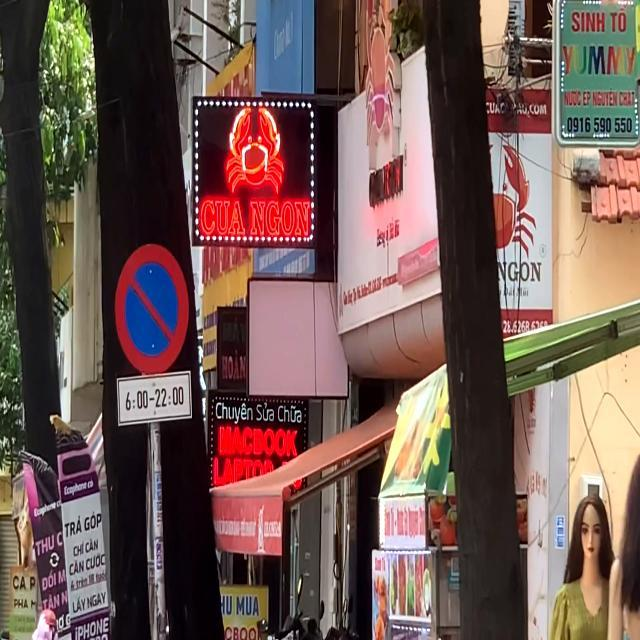P-131a: (115, 244, 187, 372)
